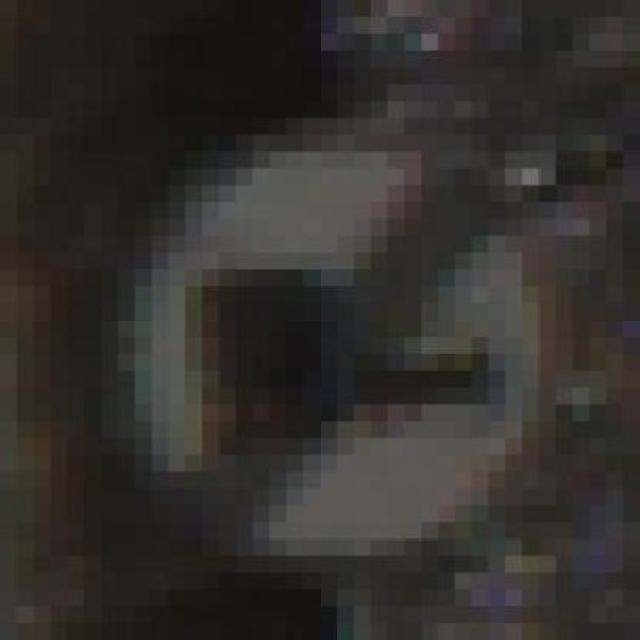Overtaking by trucks is prohibited: (67, 101, 590, 590)
